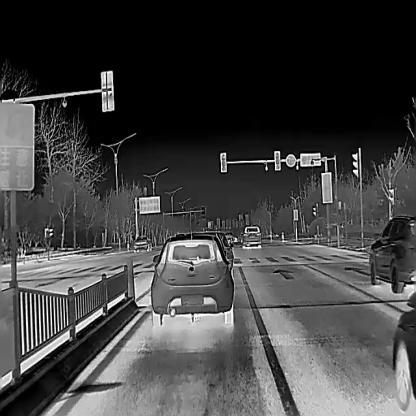car: (150, 235, 234, 325), (367, 215, 416, 294), (392, 291, 416, 412), (178, 230, 233, 266), (239, 223, 261, 248), (132, 236, 152, 253), (225, 230, 234, 242)
